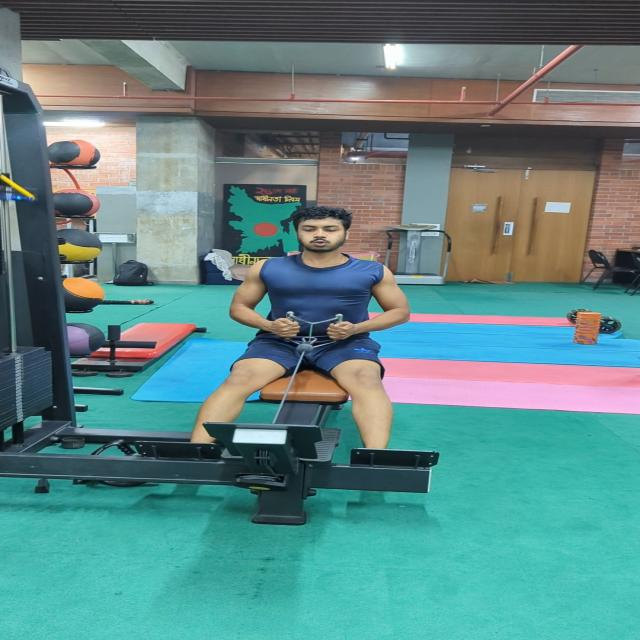Normal_RowingMachineExercise: (186, 203, 414, 454)
